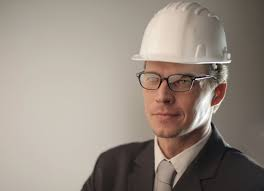Person_wearing_helmet: (119, 1, 229, 90)
